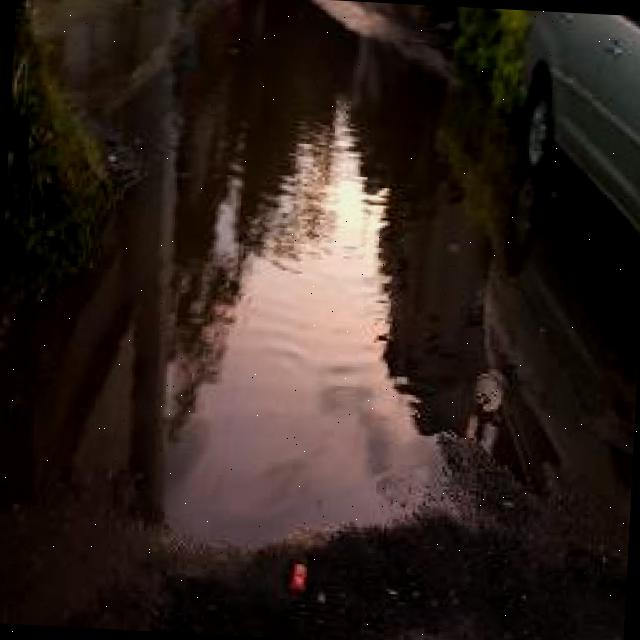waterlogging: (36, 17, 558, 594)
